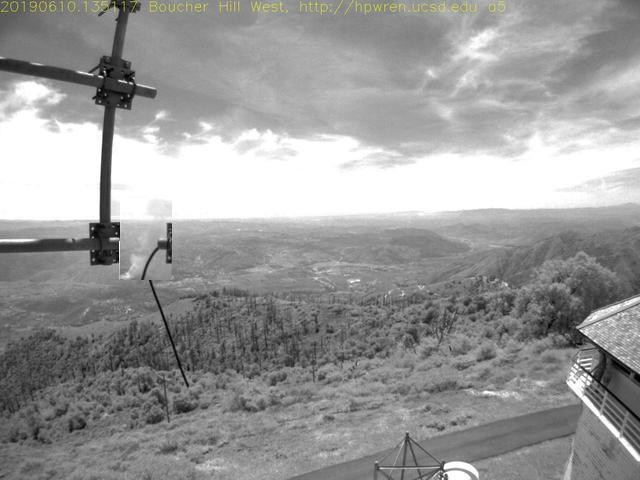smoke: (121, 199, 174, 282)
